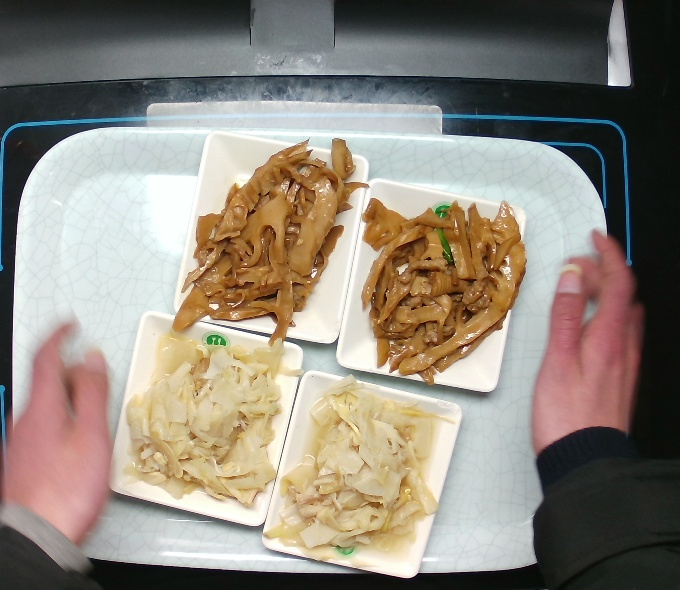wcq-LuSun: (271, 392, 453, 571), (120, 321, 288, 513)
wcq-SunGan: (164, 132, 374, 350), (347, 200, 532, 388)
